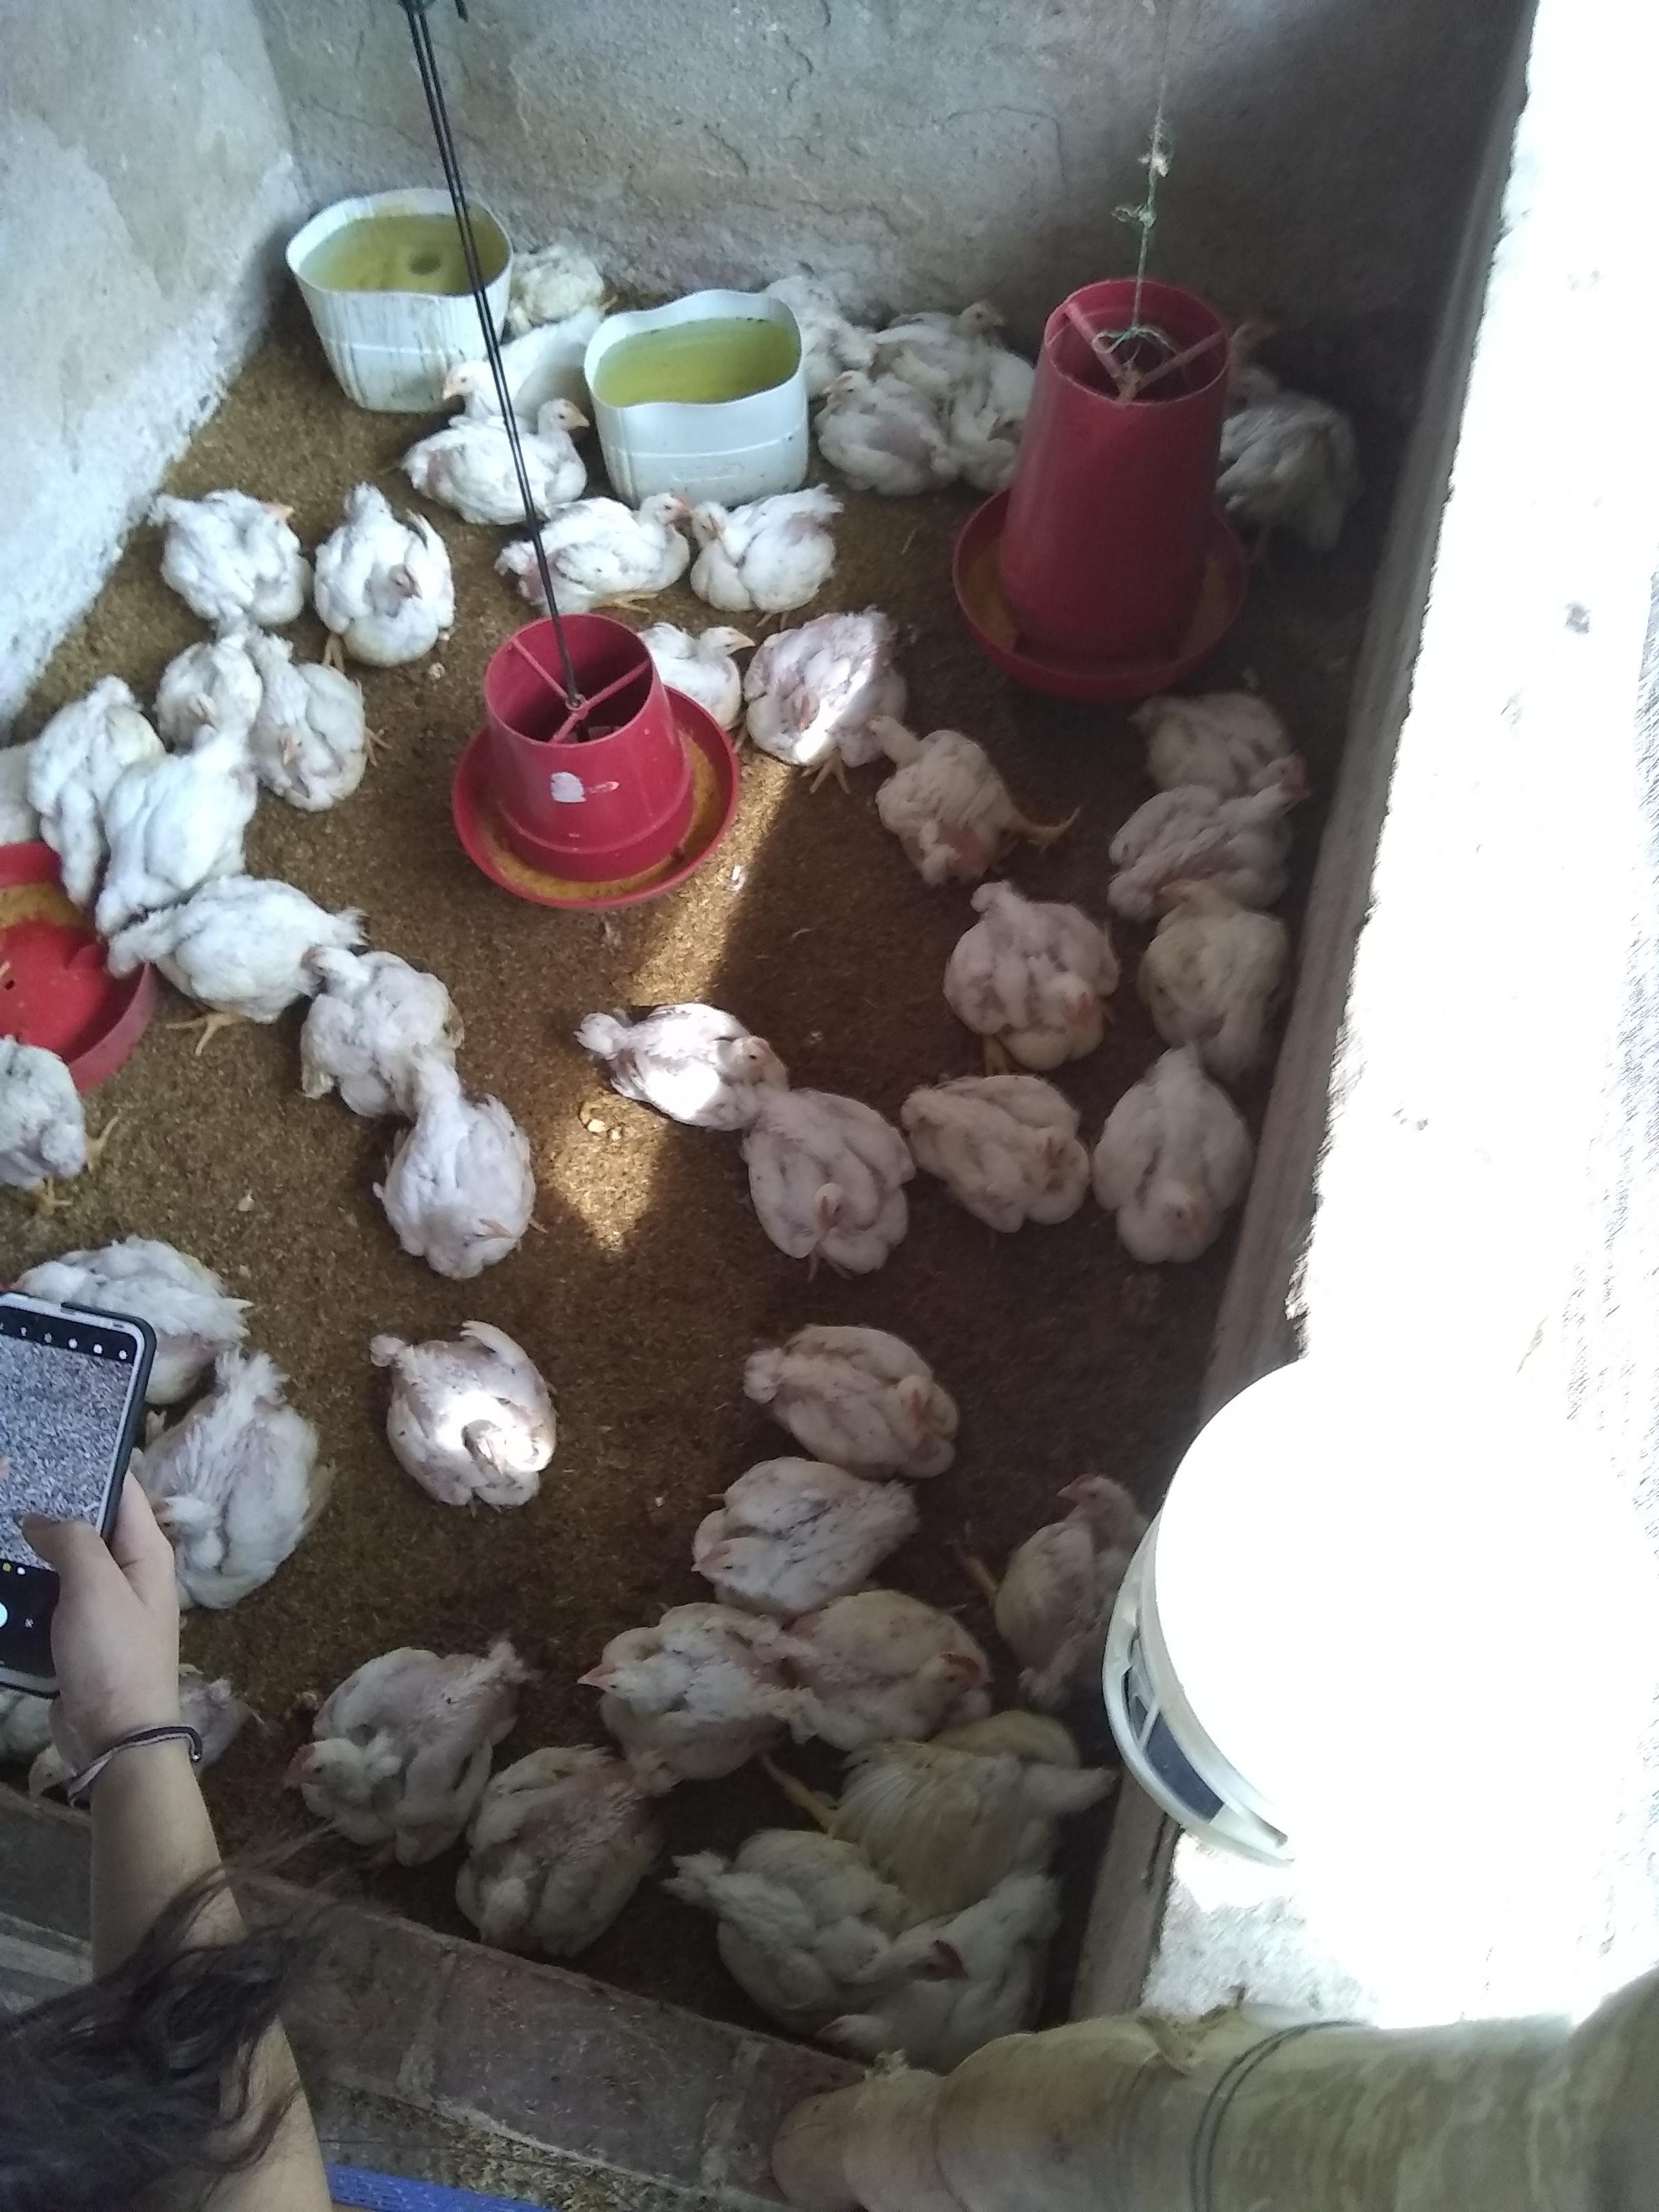Pollos: (723, 1824, 972, 1993), (277, 1646, 505, 1820), (464, 1757, 655, 1949), (390, 1054, 538, 1277), (380, 1325, 561, 1505), (155, 1407, 336, 1581), (760, 1080, 920, 1266), (577, 1608, 763, 1766), (906, 1073, 1096, 1223), (1000, 1472, 1145, 1656), (1114, 1045, 1236, 1247), (701, 1465, 885, 1597), (767, 1338, 957, 1465), (1131, 873, 1270, 1038), (962, 890, 1100, 1052), (518, 486, 695, 611), (110, 887, 295, 1005), (26, 686, 131, 890), (875, 714, 1028, 850), (1236, 364, 1356, 535), (1121, 773, 1302, 876), (331, 496, 453, 648), (153, 486, 307, 601), (599, 1012, 782, 1108), (769, 606, 878, 761), (817, 373, 969, 482), (267, 644, 366, 806), (1168, 678, 1316, 786), (295, 941, 432, 1052), (695, 481, 847, 582), (460, 392, 589, 496), (835, 1648, 983, 1735), (889, 296, 1012, 381), (434, 329, 561, 411), (659, 613, 755, 697)
